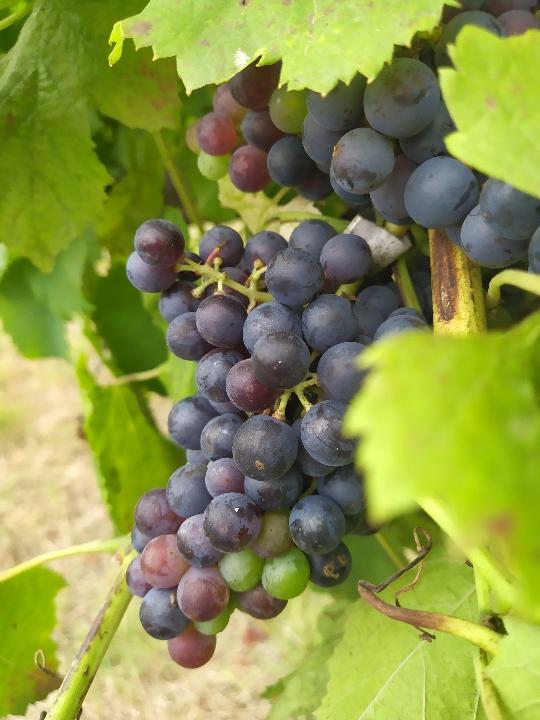grape: (121, 216, 434, 672)
